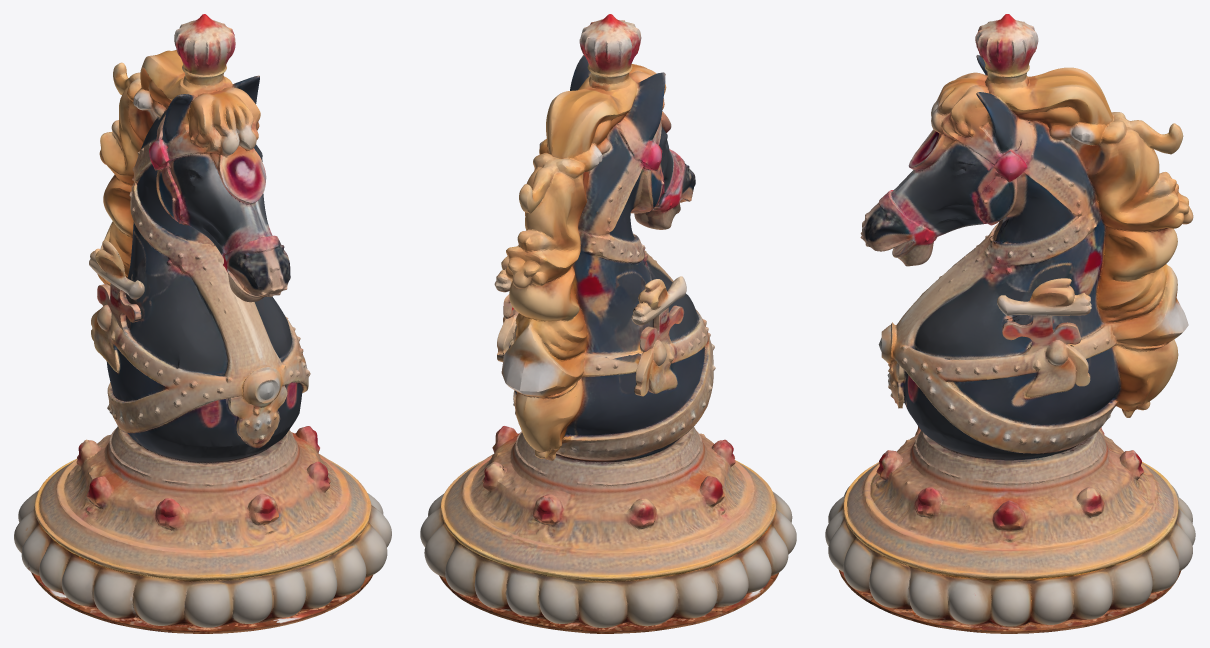
File: knight_black.glb
The picture shows the model from 3 angles, left to right: view 1: azimuth 30°, elevation 25°; view 2: azimuth 150°, elevation 25°; view 3: azimuth 270°, elevation 25°; orthographic projection.
Visible parts, largest first — view 1: model; view 2: model; view 3: model.
Part boxes in pixels (x1,y1,x2,y2): model: [14, 14, 391, 633]; model: [420, 14, 796, 633]; model: [825, 14, 1195, 633].
Size of the model in its own units: 1.16 by 1.9 by 1.16.
1 material, 1 textured.
